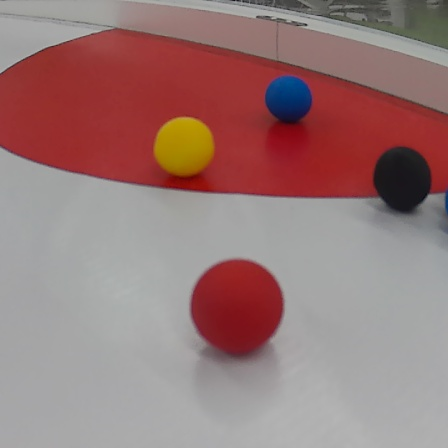black: (376, 141, 433, 212)
blue_base: (261, 72, 314, 122)
red: (187, 257, 286, 356)
red_base: (2, 23, 448, 200)
yellow: (152, 116, 215, 178)
